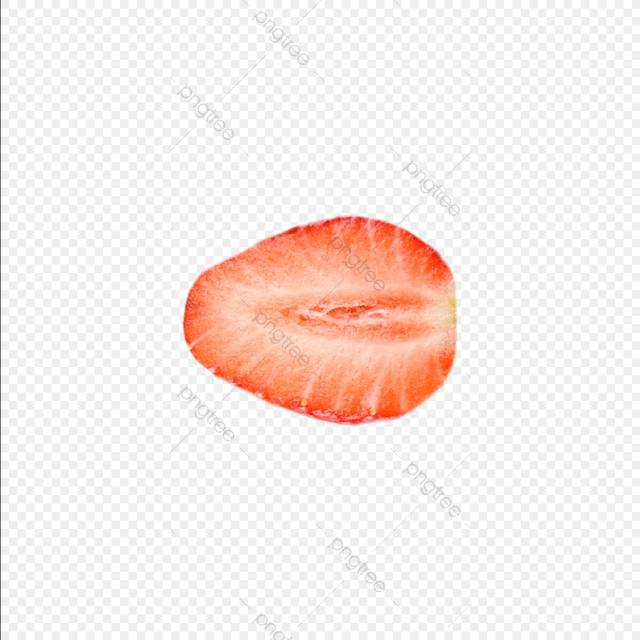strawberry: (165, 185, 491, 454)
